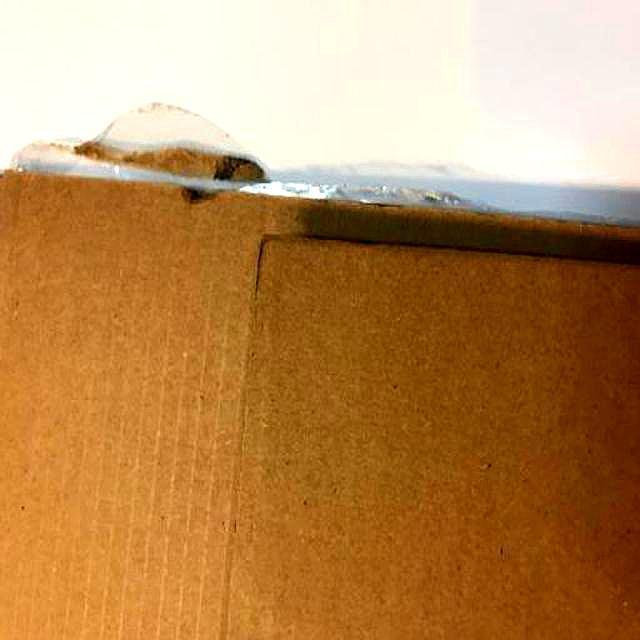Biodegradable: (1, 147, 640, 640)
